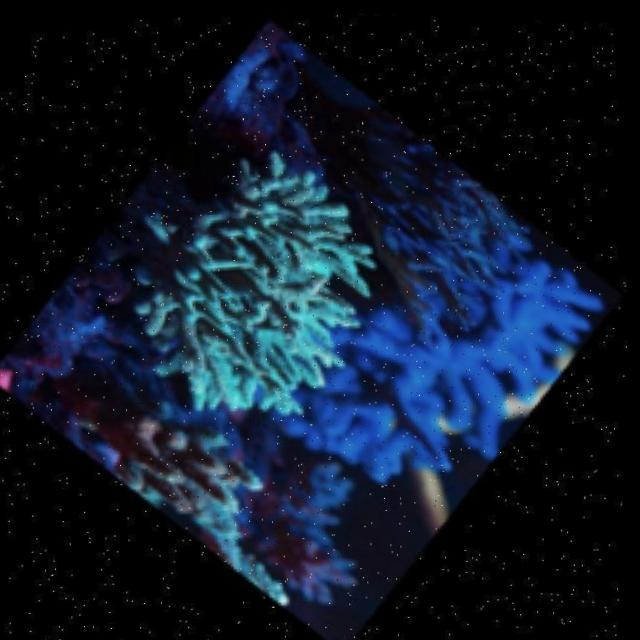Healthy Coral: (88, 136, 408, 450)
